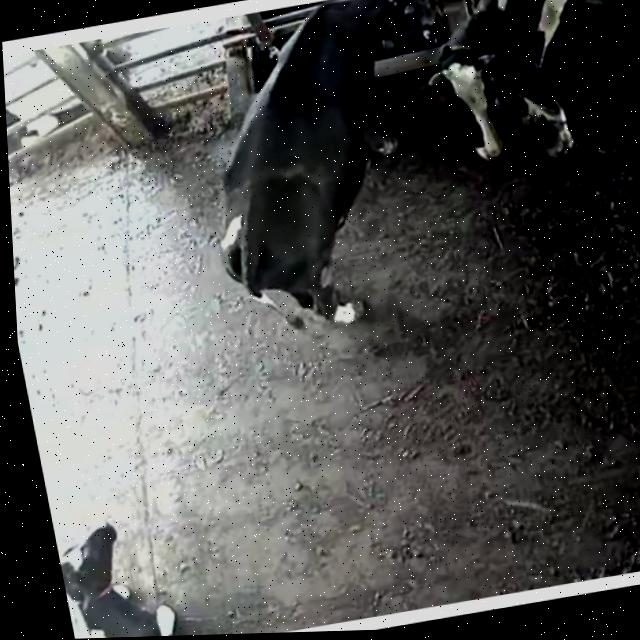drink: (278, 0, 452, 107)
